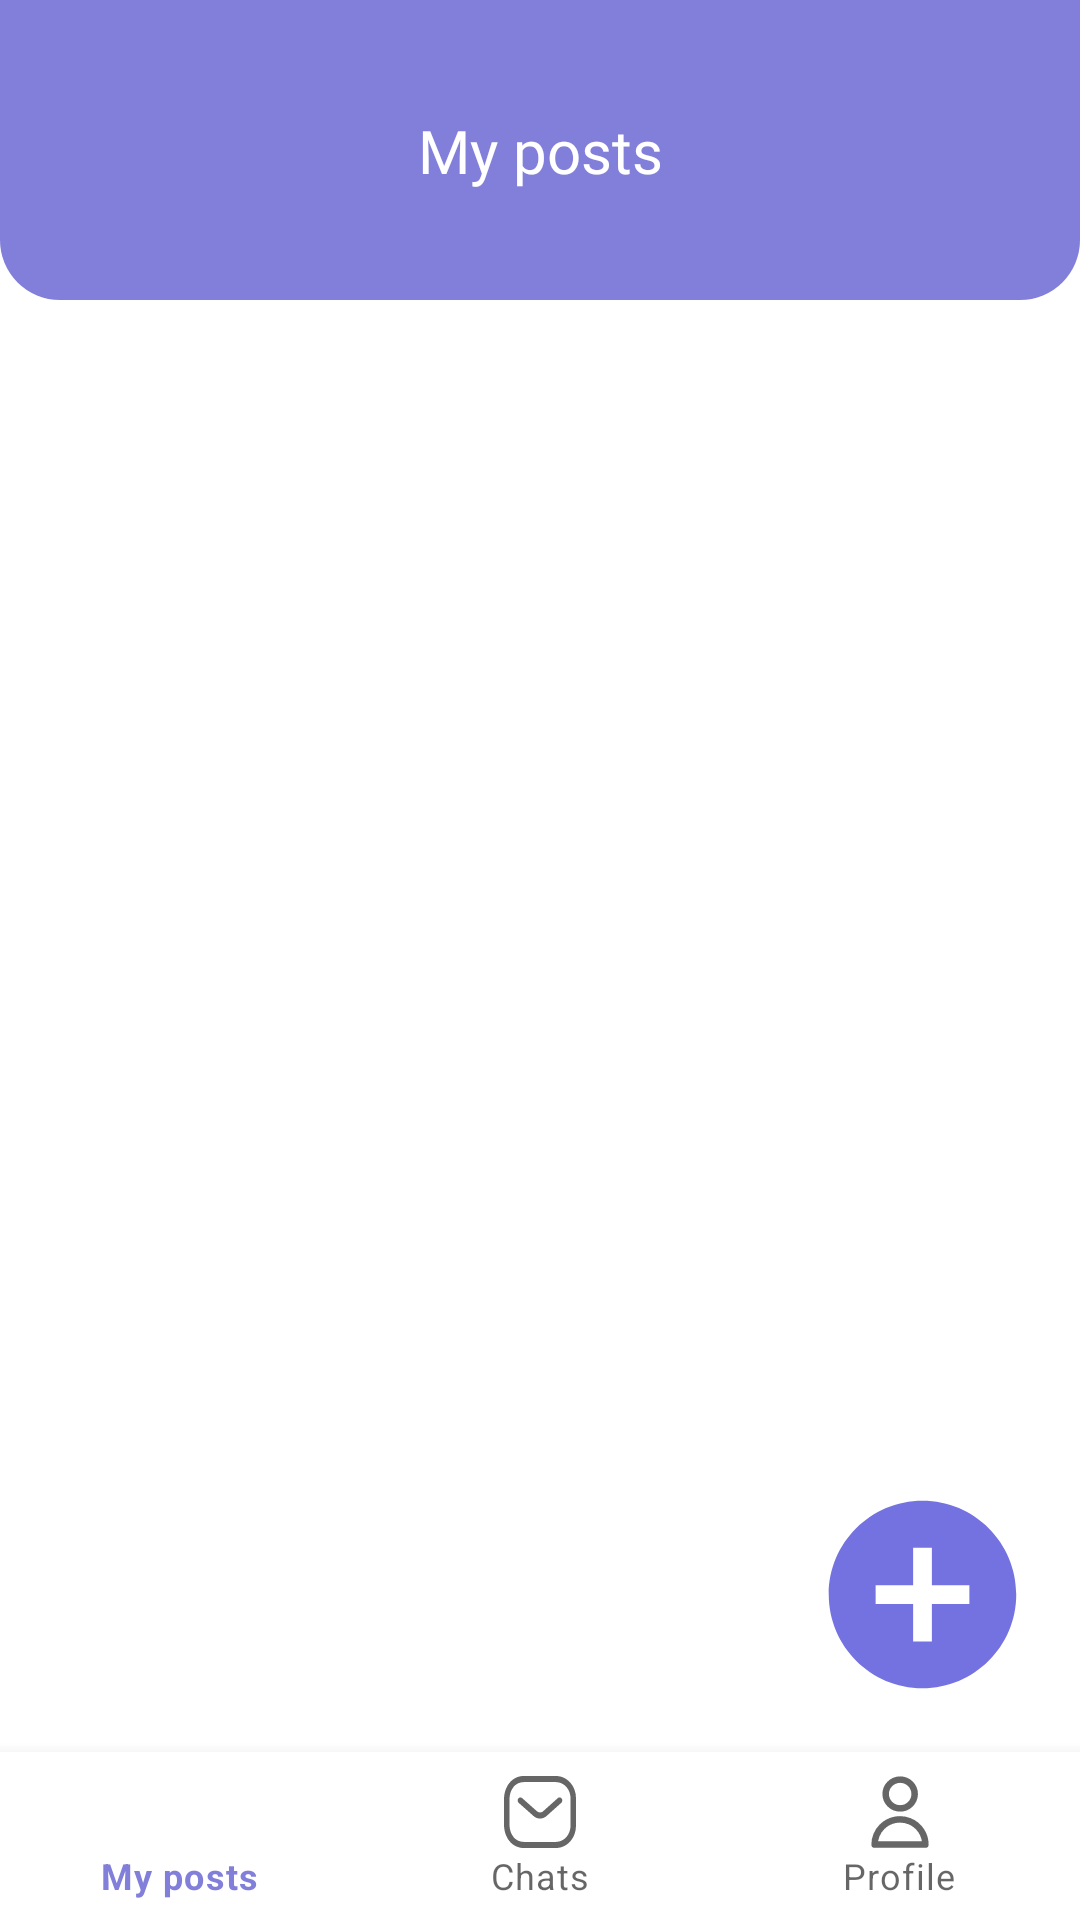

Screen size 1080px x 1920px. Icon name, then its center in pixels as [x,y]:
add: [922,1594]
